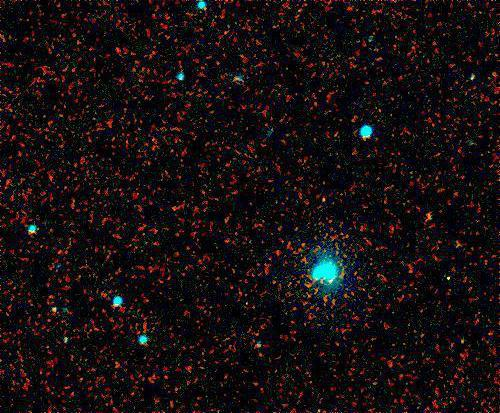star: (442, 230, 472, 260)
